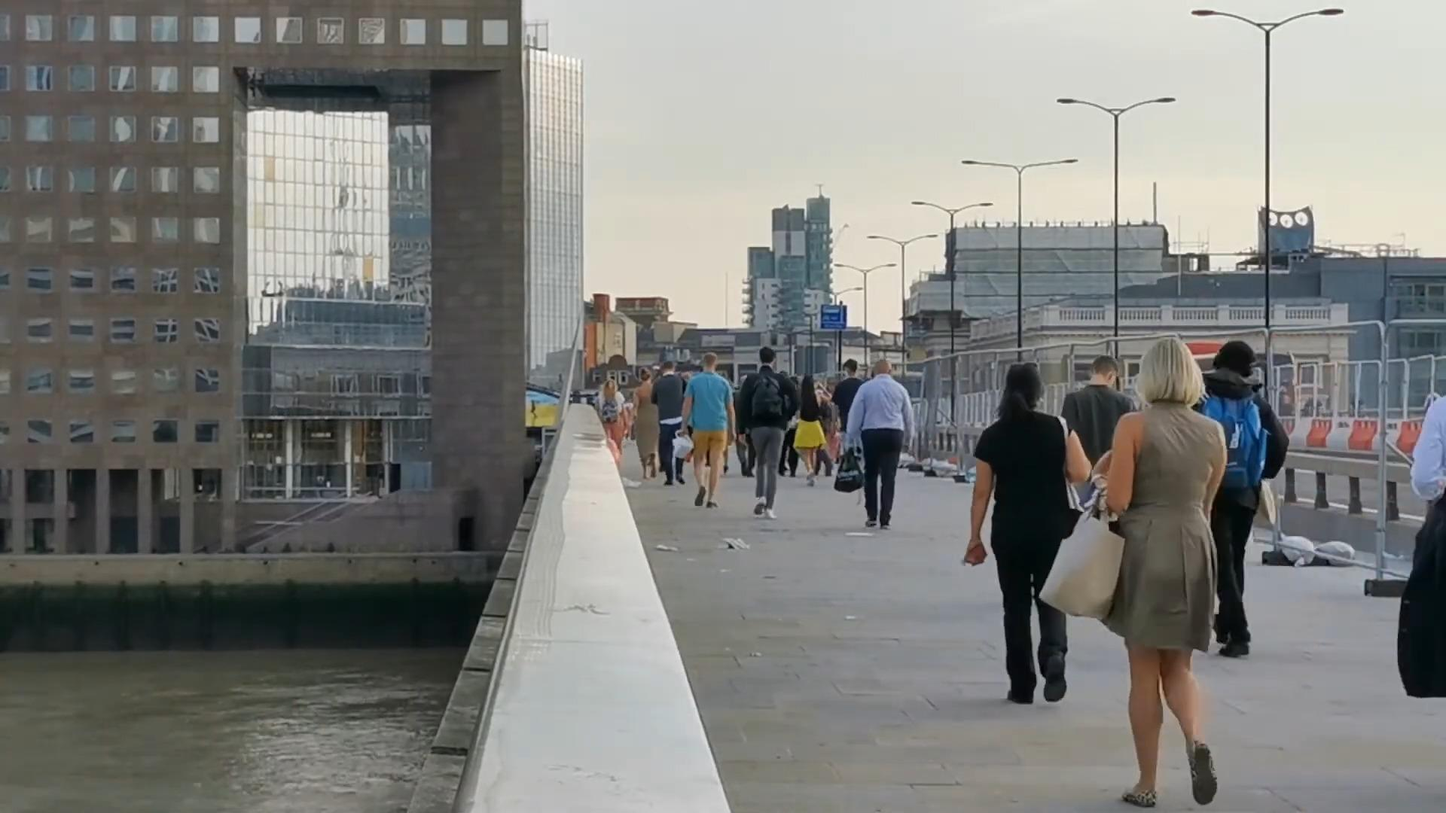no-helmet: (1135, 337, 1210, 410), (995, 362, 1044, 426), (1210, 340, 1258, 380), (1089, 354, 1119, 388), (759, 345, 776, 367), (873, 359, 892, 376), (702, 352, 717, 370), (603, 379, 616, 397), (640, 367, 651, 384)
